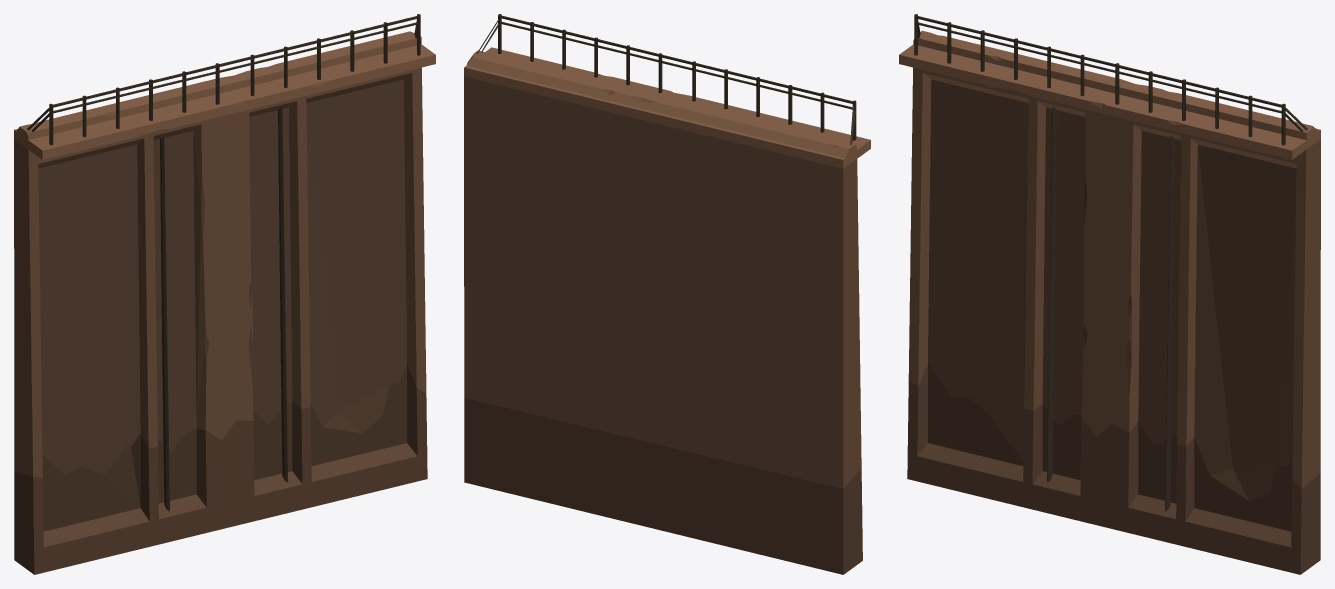
Rendered from SM_Env_Port_Drydock_Large_Flat_01.fbx.
3 renders of one model, left to right at view 1: azimuth 30°, elevation 25°; view 2: azimuth 150°, elevation 25°; view 3: azimuth 330°, elevation 25°, orthographic. The views are drawn at different scales.
Parts seen in each view (by area): view 1: SM_Env_Port_Drydock_Large_Flat_01; view 2: SM_Env_Port_Drydock_Large_Flat_01; view 3: SM_Env_Port_Drydock_Large_Flat_01.
Boxes of the visible parts, x1,y1,x2,y2 form: SM_Env_Port_Drydock_Large_Flat_01: [14, 14, 435, 574]; SM_Env_Port_Drydock_Large_Flat_01: [464, 14, 870, 574]; SM_Env_Port_Drydock_Large_Flat_01: [899, 14, 1320, 574].
Size of the model in its own units: 1000 by 1143 by 126.
